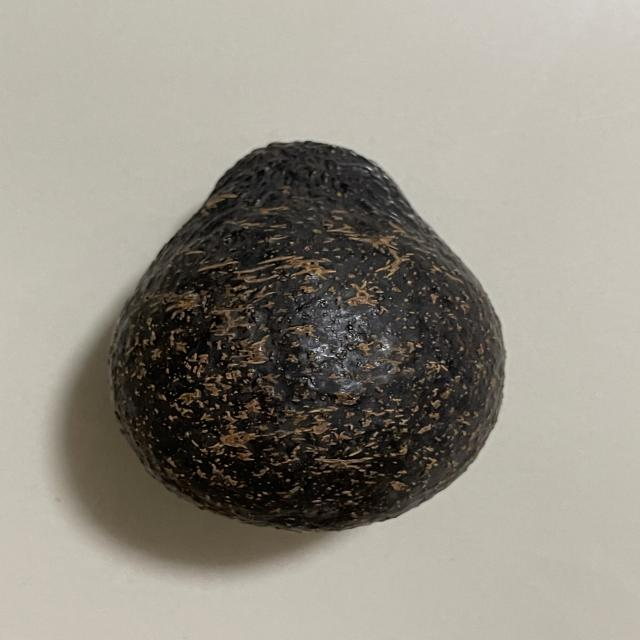Level3: (99, 130, 516, 539)
